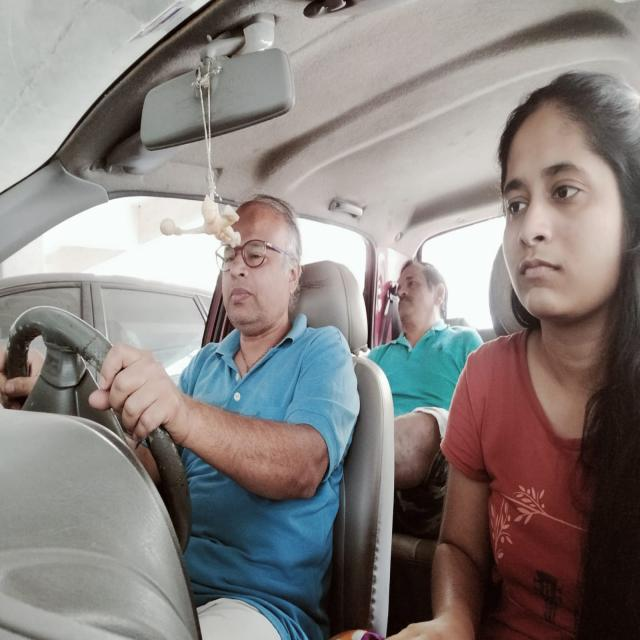person: (494, 64, 640, 328), (220, 191, 302, 328), (393, 258, 450, 334)
